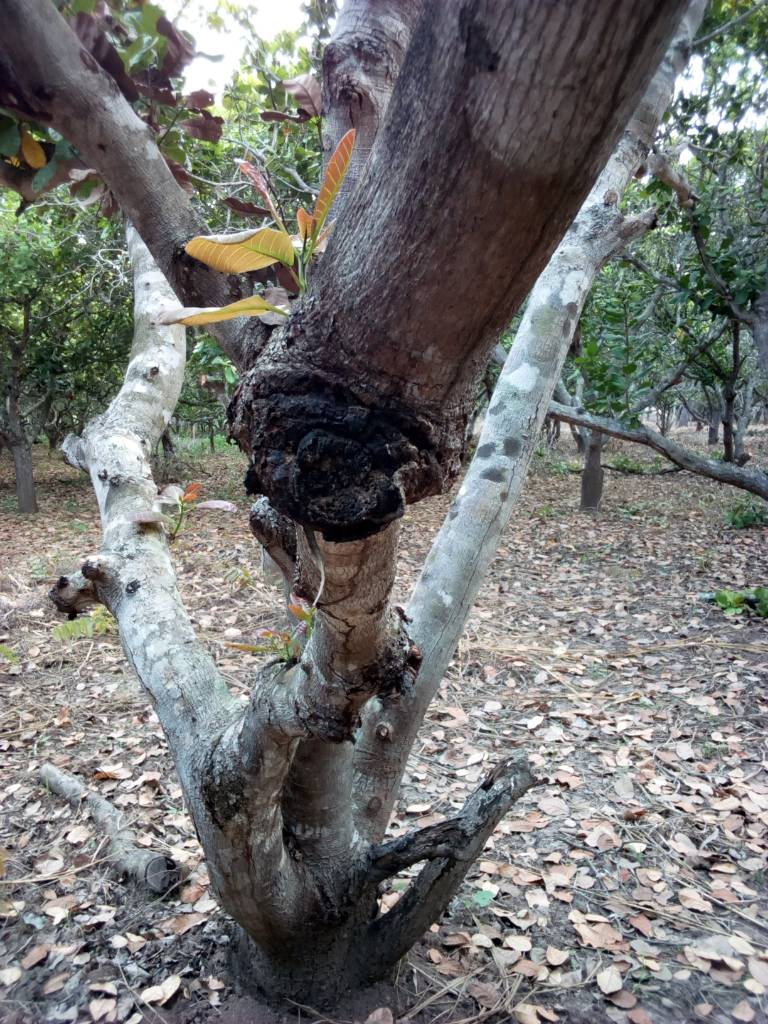ploceadorus ferrugineus: (177, 332, 449, 614)
